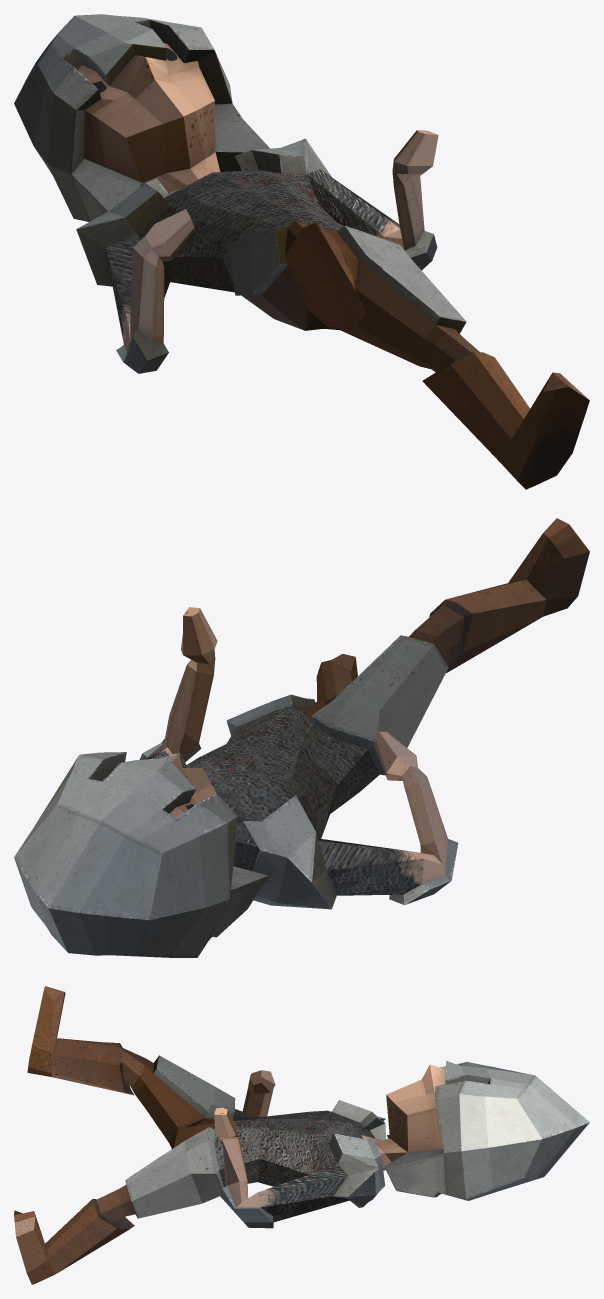
Rendered from Walk_Soldier_2.obj.
3 views of the same model, one above another, from view 1: azimuth 30°, elevation 25°; view 2: azimuth 150°, elevation 25°; view 3: azimuth 270°, elevation 25° (orthographic). The views are drawn at different scales.
Parts seen in each view (by area): view 1: Soldado_LowPolySTD; view 2: Soldado_LowPolySTD; view 3: Soldado_LowPolySTD.
Boxes of the visible parts, x1,y1,x2,y2 form: Soldado_LowPolySTD: (14, 14, 589, 489); Soldado_LowPolySTD: (14, 518, 589, 957); Soldado_LowPolySTD: (14, 986, 589, 1284).
Size of the model in its own units: 0.6887 by 0.6815 by 1.6.
